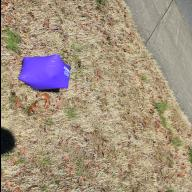cube: (18, 54, 70, 90)
